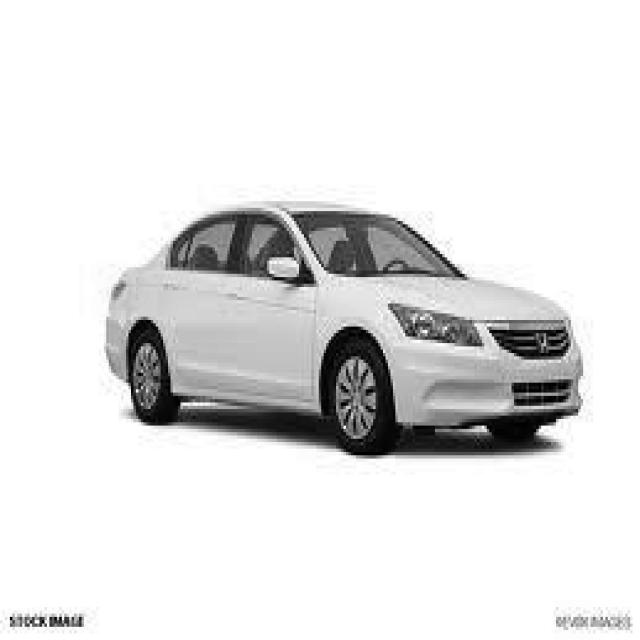car: (104, 198, 583, 455)
